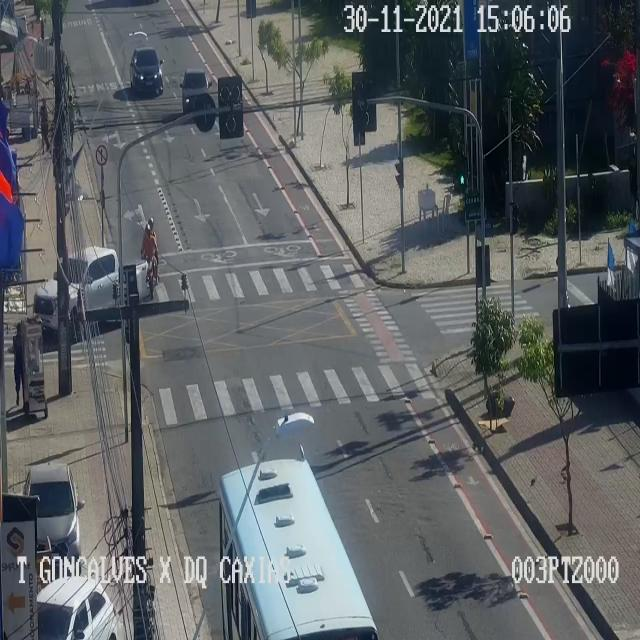Bus: (218, 459, 378, 639)
Car: (33, 246, 147, 339), (24, 462, 80, 572), (36, 575, 116, 639), (130, 46, 162, 94), (182, 68, 208, 113)
Motorcycle: (140, 217, 158, 297)
